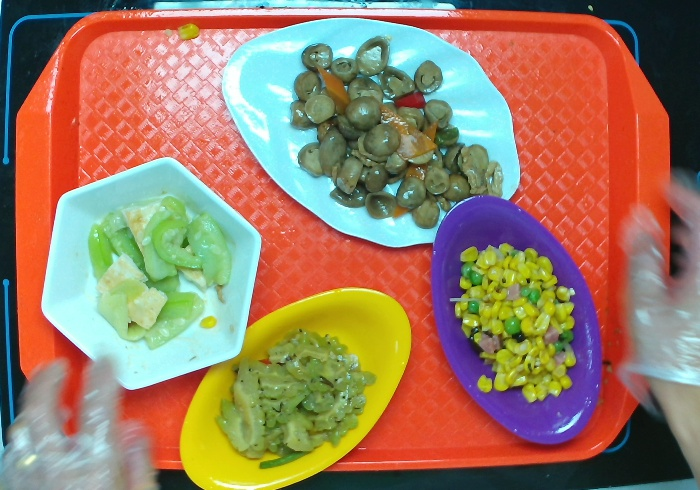RJxy-Bai_Ye_Pan: (218, 18, 526, 254)
RJxy-Fen_Hong_Tuo_Yuan: (426, 187, 605, 451)
RJxy-Huang_Se_Tuo_Yuan: (175, 285, 416, 490)
RJxy-Liu_Jiao_Wan: (34, 153, 267, 395)
